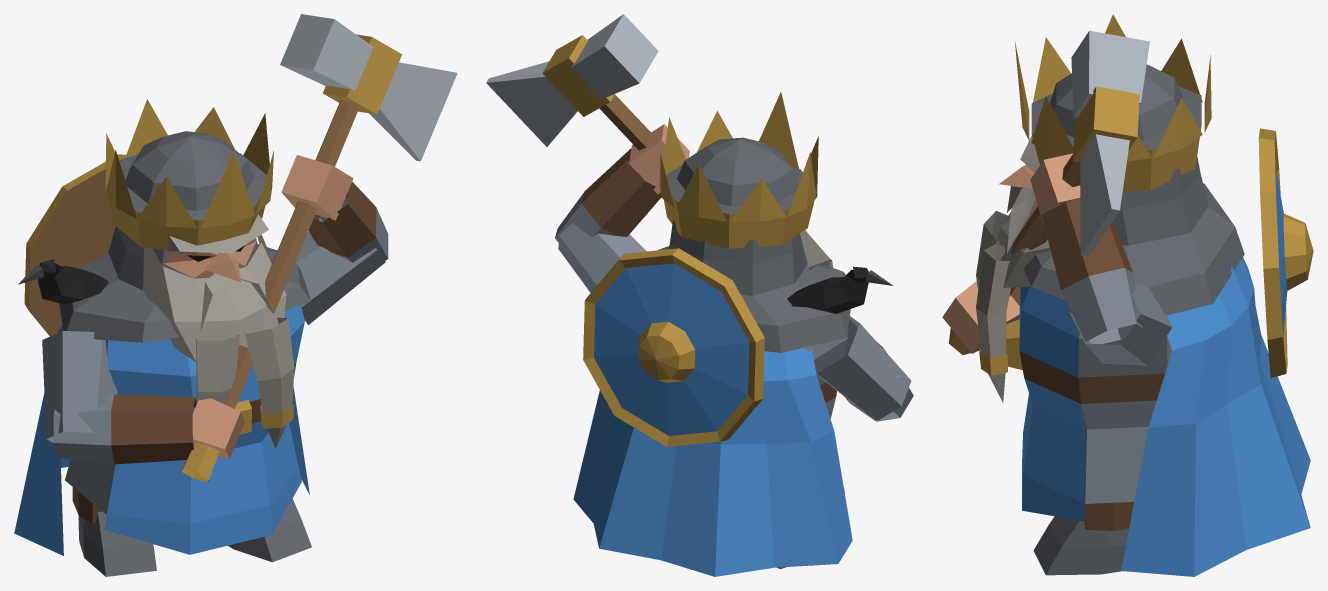
The model's file is dain-3.glb.
3 renders of one model, left to right at view 1: azimuth 30°, elevation 25°; view 2: azimuth 150°, elevation 25°; view 3: azimuth 270°, elevation 25°, orthographic. The views are drawn at different scales.
Parts seen in each view (by area): view 1: dain-3; view 2: dain-3; view 3: dain-3.
Part boxes in pixels (<box>): dain-3: <box>14,14,457,576</box>; dain-3: <box>486,14,913,576</box>; dain-3: <box>942,14,1313,576</box>.
Size of the model in its own units: 1.29 by 1.43 by 0.8451.
